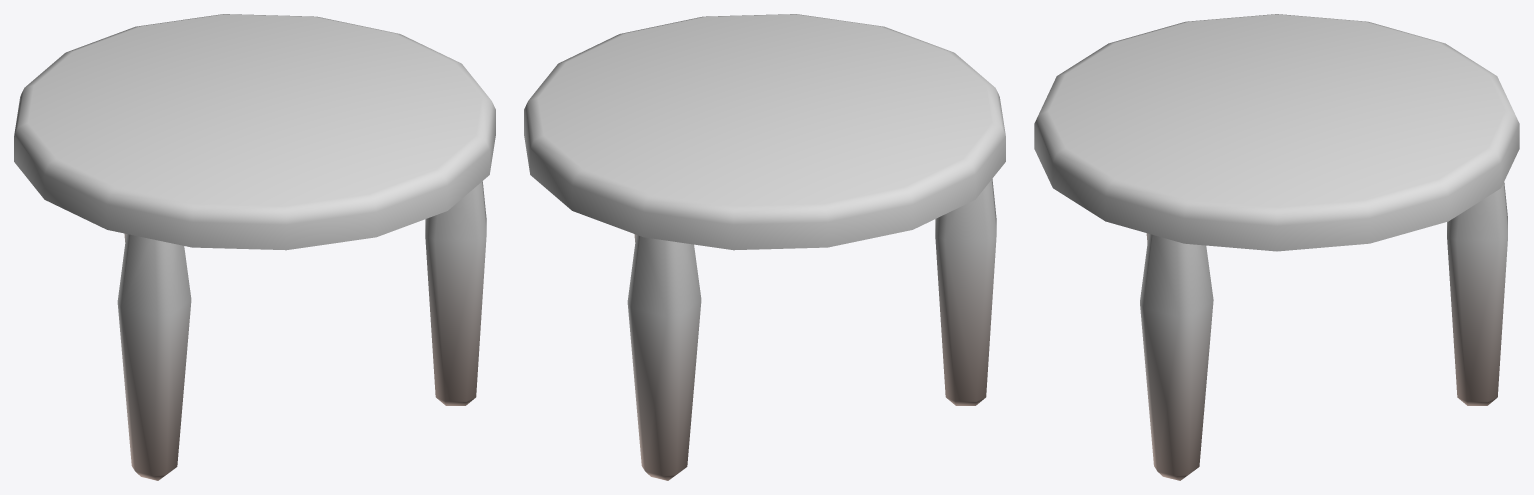
Rendered from NF_Env_Table 01.fbx.
3 renders of one model, left to right at view 1: azimuth 30°, elevation 25°; view 2: azimuth 150°, elevation 25°; view 3: azimuth 270°, elevation 25°, orthographic.
Visible parts, largest first — view 1: Table_01; view 2: Table_01; view 3: Table_01.
Part boxes in pixels (bbox=[...]): Table_01: bbox=[14, 14, 495, 480]; Table_01: bbox=[524, 14, 1005, 480]; Table_01: bbox=[1034, 14, 1519, 480].
Size of the model in its own units: 1.74 by 1.15 by 1.74.
